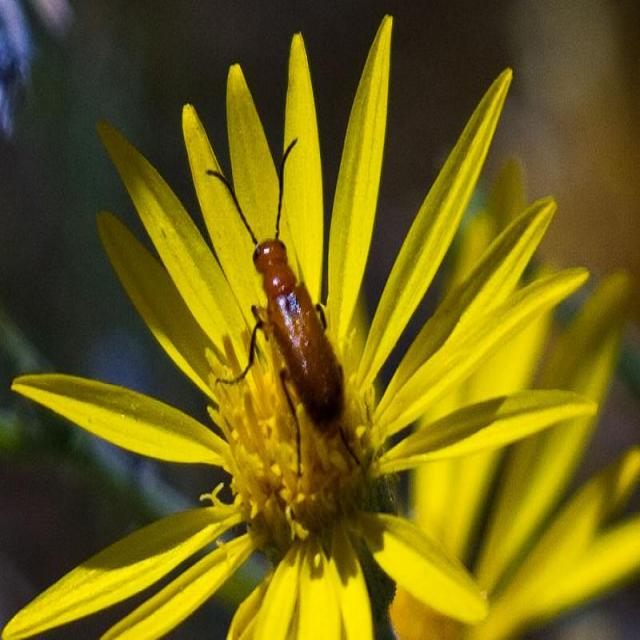BlisterBeetle-Adult-: (198, 133, 376, 484)
